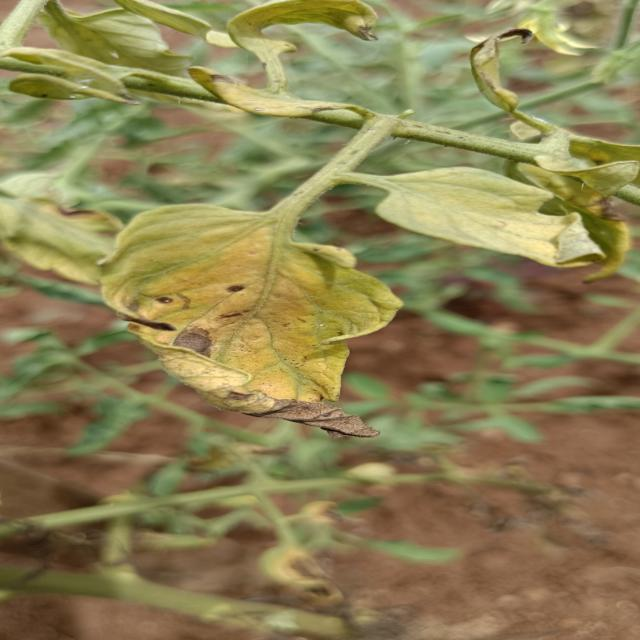tomato_early blight: (94, 202, 394, 436)
